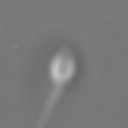normal: (28, 84, 62, 128)
